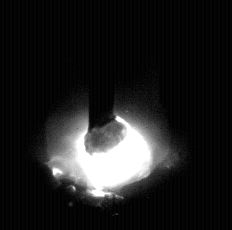arame: (89, 0, 116, 153)
poca: (46, 0, 171, 230)
